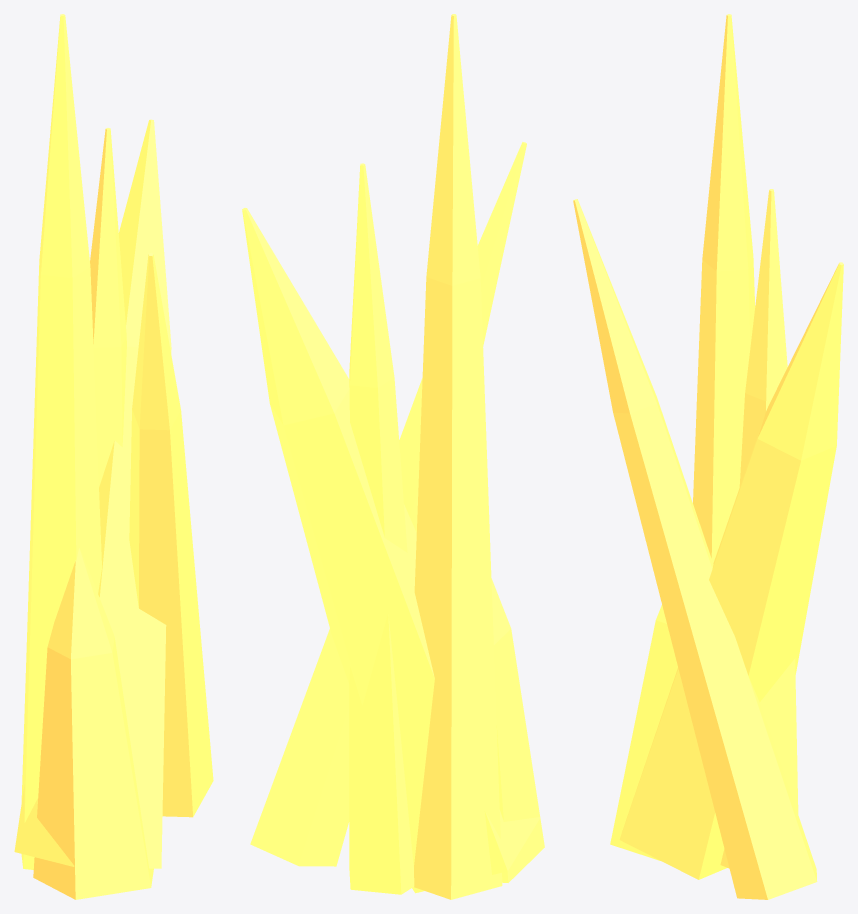
The model's file is fire_crystal.glb.
The picture shows the model from 3 angles, left to right: view 1: azimuth 30°, elevation 25°; view 2: azimuth 150°, elevation 25°; view 3: azimuth 270°, elevation 25°; orthographic projection. The views are drawn at different scales.
Visible parts, largest first — view 1: fire_crystal; view 2: fire_crystal; view 3: fire_crystal.
Part boxes in pixels (x1,y1,x2,y2): fire_crystal: (14,14,213,899); fire_crystal: (242,14,544,899); fire_crystal: (573,14,843,899).
Size of the model in its own units: 0.9506 by 3.48 by 1.03.
